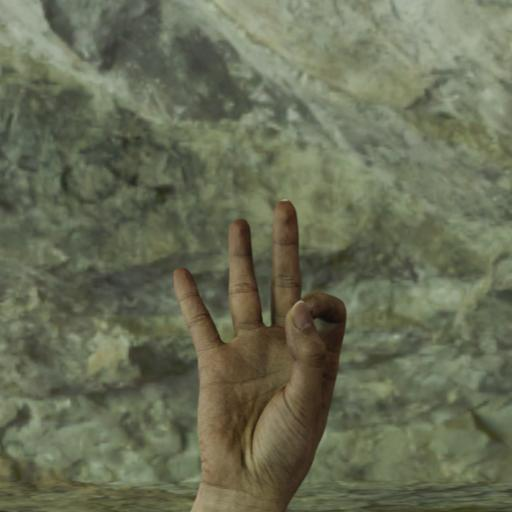F: (171, 194, 351, 492)
